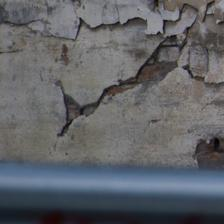Crack: (51, 15, 201, 75), (37, 96, 145, 128), (85, 23, 123, 46), (59, 37, 80, 57)
